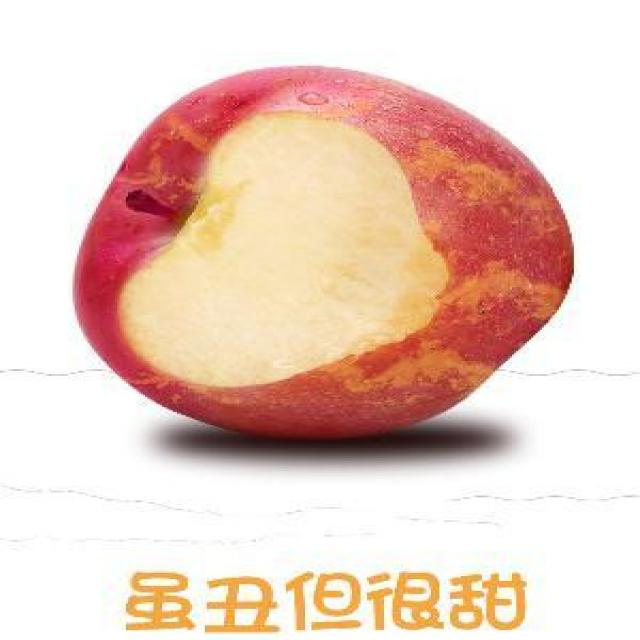Rotten: (85, 79, 595, 463)
